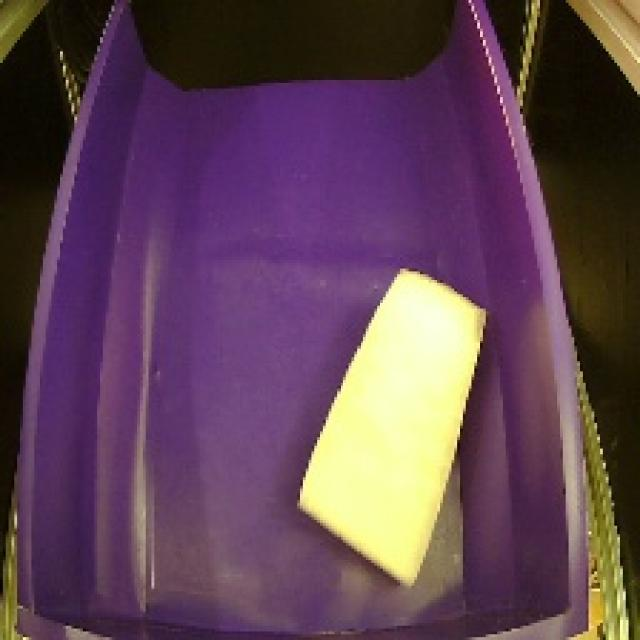white_radish: (299, 258, 492, 596)
